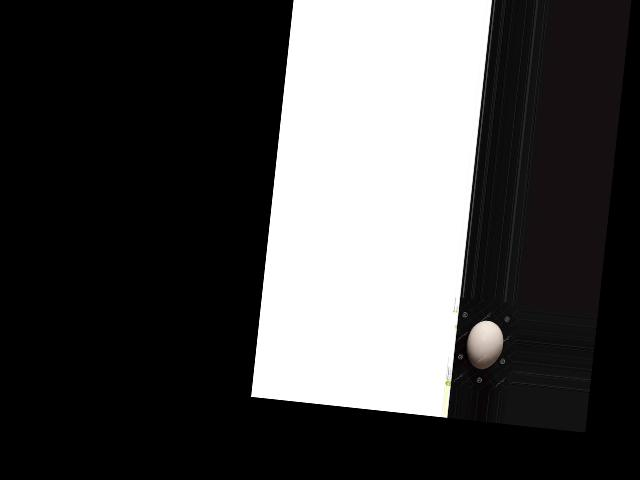egg: (464, 318, 505, 371)
